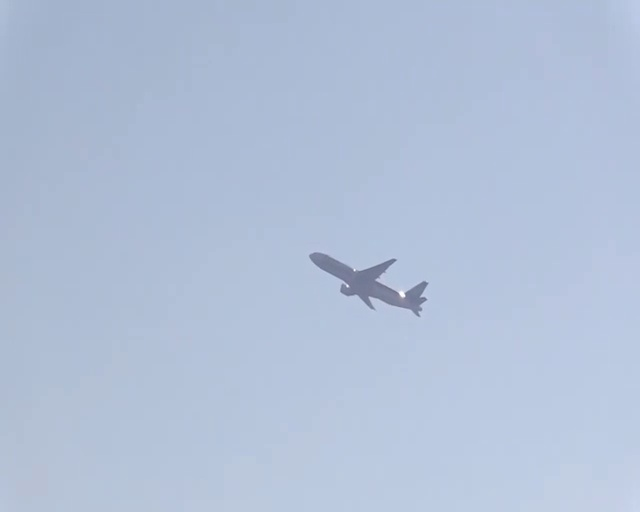AIRPLANE: (307, 250, 428, 316)
